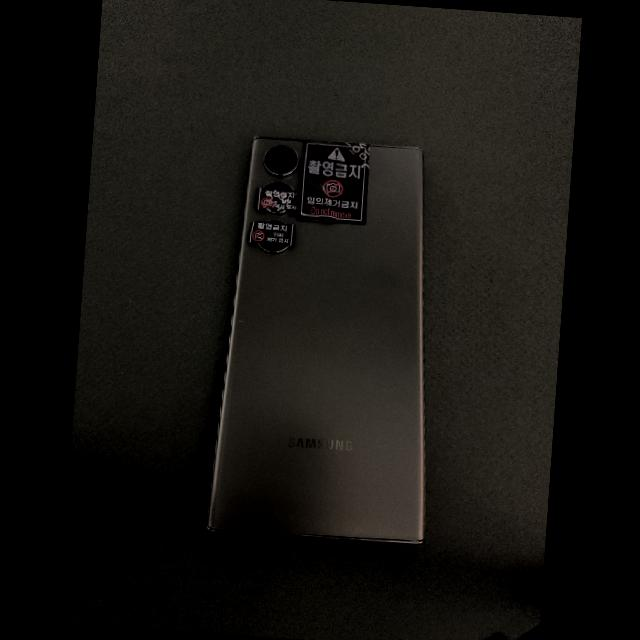lens: (263, 145, 298, 176), (258, 244, 290, 253), (264, 182, 293, 190)
phone: (207, 137, 424, 543)
sticker: (296, 140, 369, 225), (246, 220, 295, 246), (253, 187, 297, 215)
